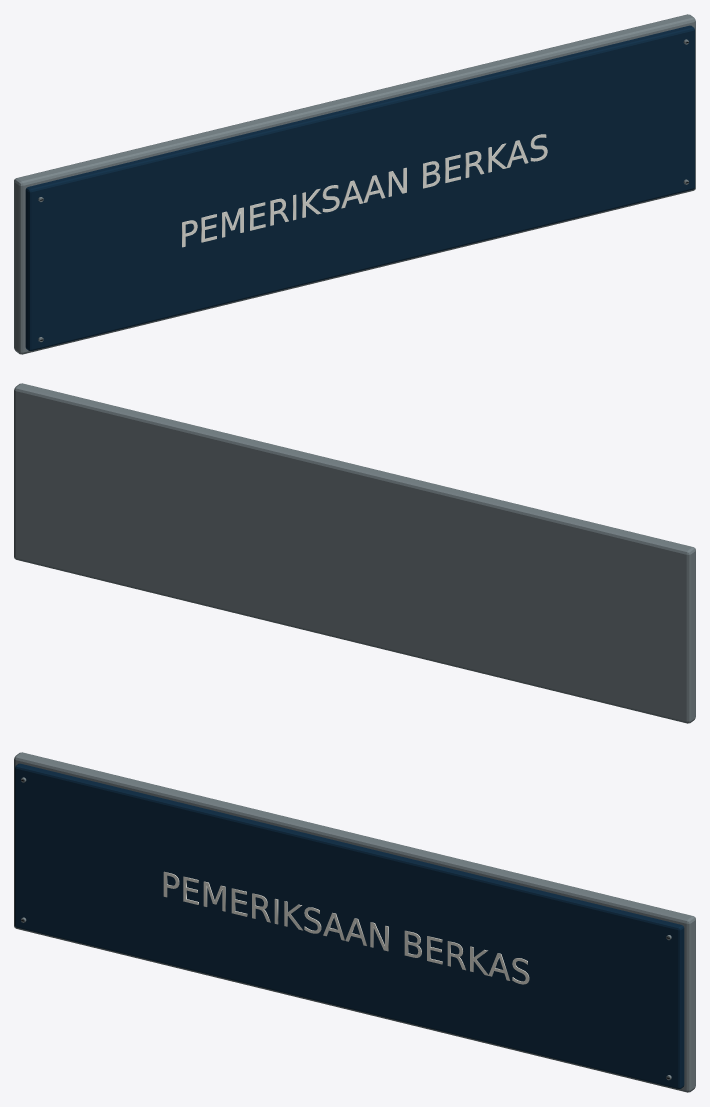
File: OAA_Papan_Ruang_Pemeriksaan_Berkas.fbx
The picture shows the model from 3 angles, top to bottom: view 1: azimuth 30°, elevation 25°; view 2: azimuth 150°, elevation 25°; view 3: azimuth 330°, elevation 25°; orthographic projection.
Parts seen in each view (by area): view 1: Body; view 2: Body; view 3: Body.
Boxes of the visible parts, box(x1,y1,x2,y2) form: Body: box(14, 14, 695, 354); Body: box(14, 383, 695, 723); Body: box(14, 752, 695, 1092).
Bounding box in the file's own units: 0.9 × 0.22 × 0.0312.
